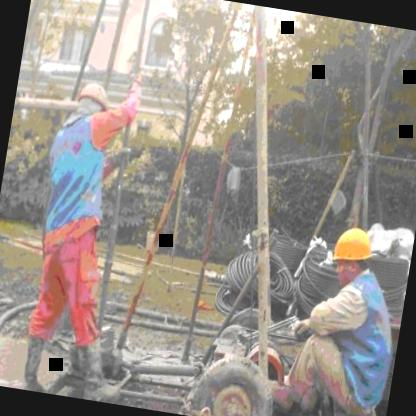helmet: (325, 218, 378, 288), (70, 79, 110, 125)
